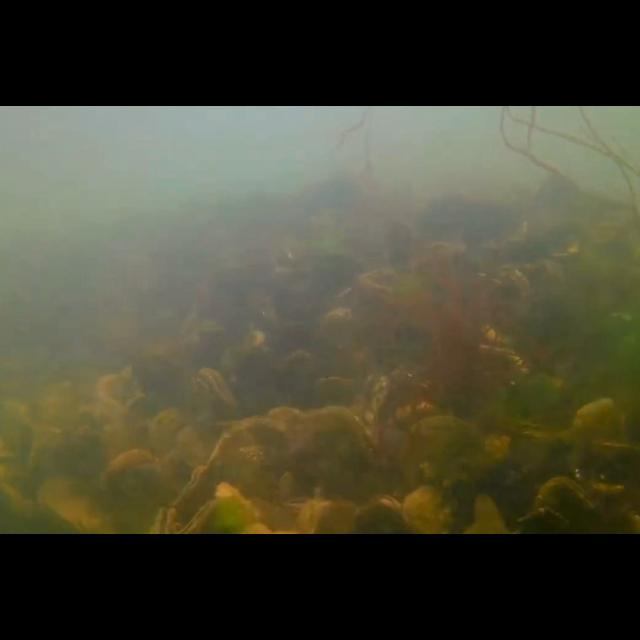Oyster-Closed: (264, 407, 390, 535), (178, 417, 312, 535), (403, 416, 493, 532), (98, 449, 176, 535), (147, 408, 207, 502), (570, 398, 622, 484), (534, 477, 602, 535), (404, 486, 466, 534), (351, 494, 413, 534)
Oyster-Open: (187, 369, 240, 438), (182, 498, 248, 534), (360, 371, 388, 441), (147, 505, 179, 535)
